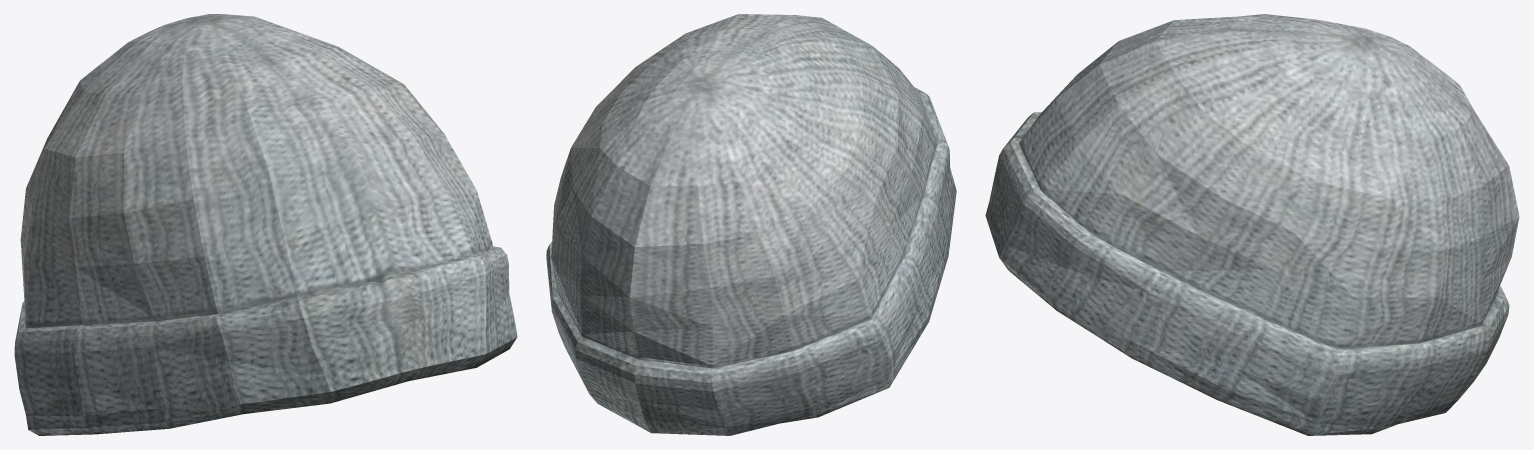
File: mhw_mindfront_knitted_hat_01.glb
3 views of the same model, side by side, from view 1: azimuth 30°, elevation 25°; view 2: azimuth 150°, elevation 25°; view 3: azimuth 270°, elevation 25° (orthographic). The views are drawn at different scales.
Visible parts, largest first — view 1: mhw_mindfront_knitted_hat_01; view 2: mhw_mindfront_knitted_hat_01; view 3: mhw_mindfront_knitted_hat_01.
Part boxes in pixels (bbox=[...]): mhw_mindfront_knitted_hat_01: bbox=[14, 14, 517, 435]; mhw_mindfront_knitted_hat_01: bbox=[546, 14, 956, 435]; mhw_mindfront_knitted_hat_01: bbox=[985, 14, 1519, 435].
Bounding box in the file's own units: 0.1833 × 0.1668 × 0.2285.
Materials: 1 (1 with a texture image).
